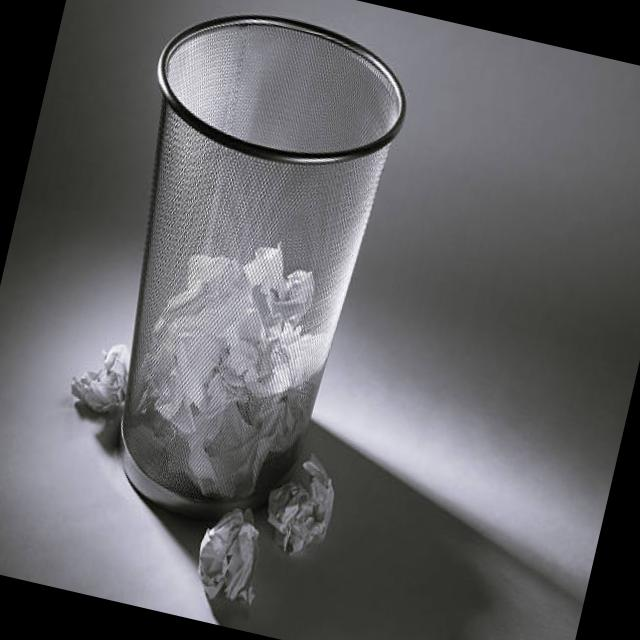electronic: (113, 218, 350, 517), (256, 444, 344, 560), (186, 497, 274, 612), (65, 332, 136, 419)
